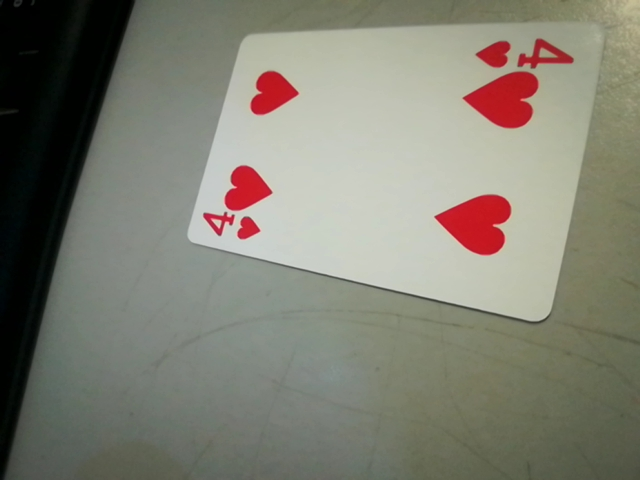hx 4: (467, 39, 577, 72)
